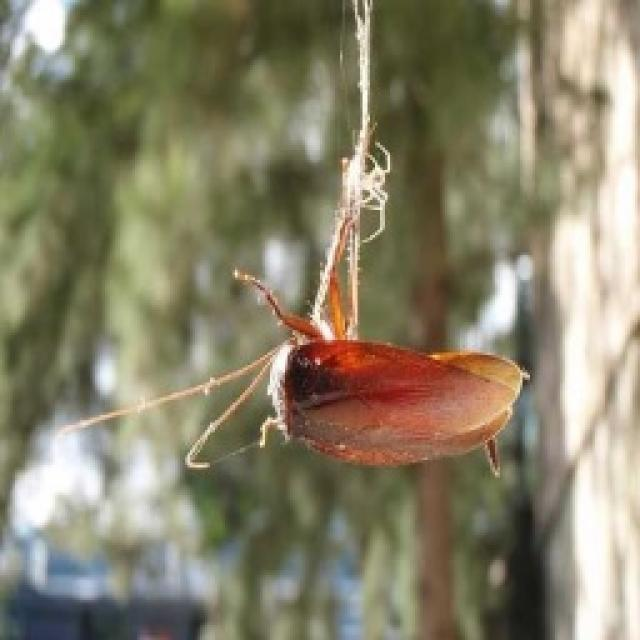cockroach: (276, 335, 531, 473)
